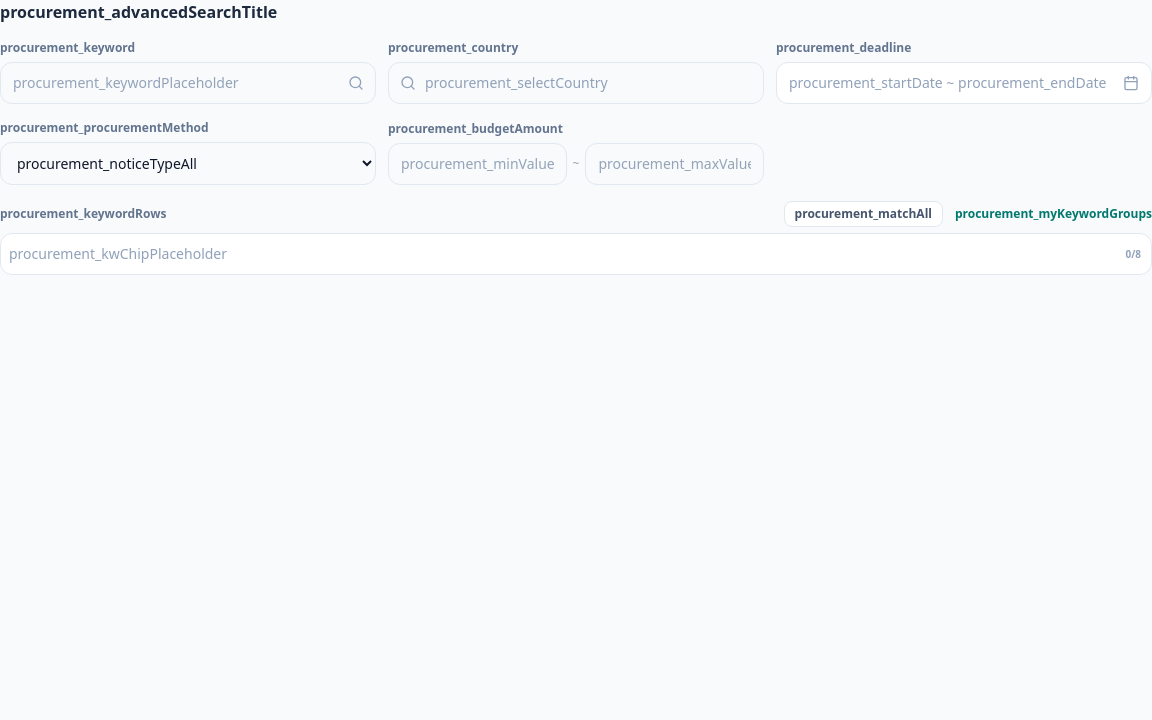
Test: 「官方精选」区 › 无权益也能进弹层看到官方区；我的词组区显示锁定入口
Click the button with test id "kw-group-picker".
click(1054, 214)  # box top-left (955, 206), bottom-right (1151, 222)
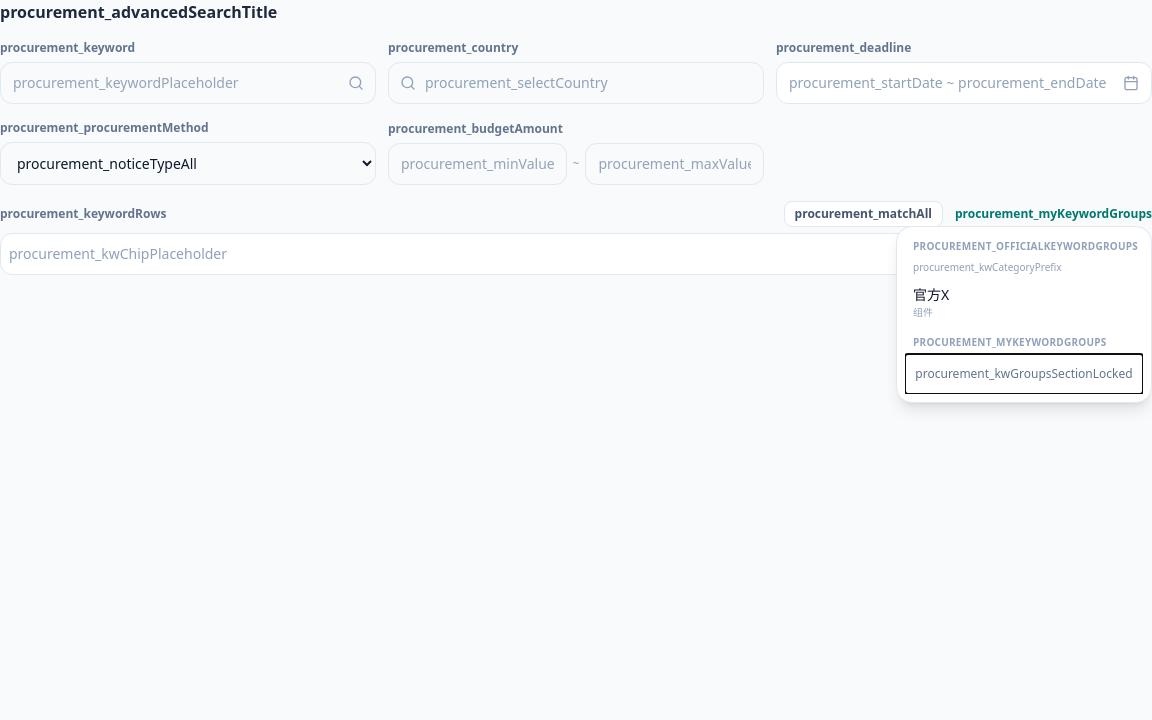
expect the button "官方X 组件" is shown: met, box top-left (905, 277), bottom-right (1143, 327)
expect the button with test id "kw-group-locked" is shown: met, box top-left (905, 354), bottom-right (1143, 394)
